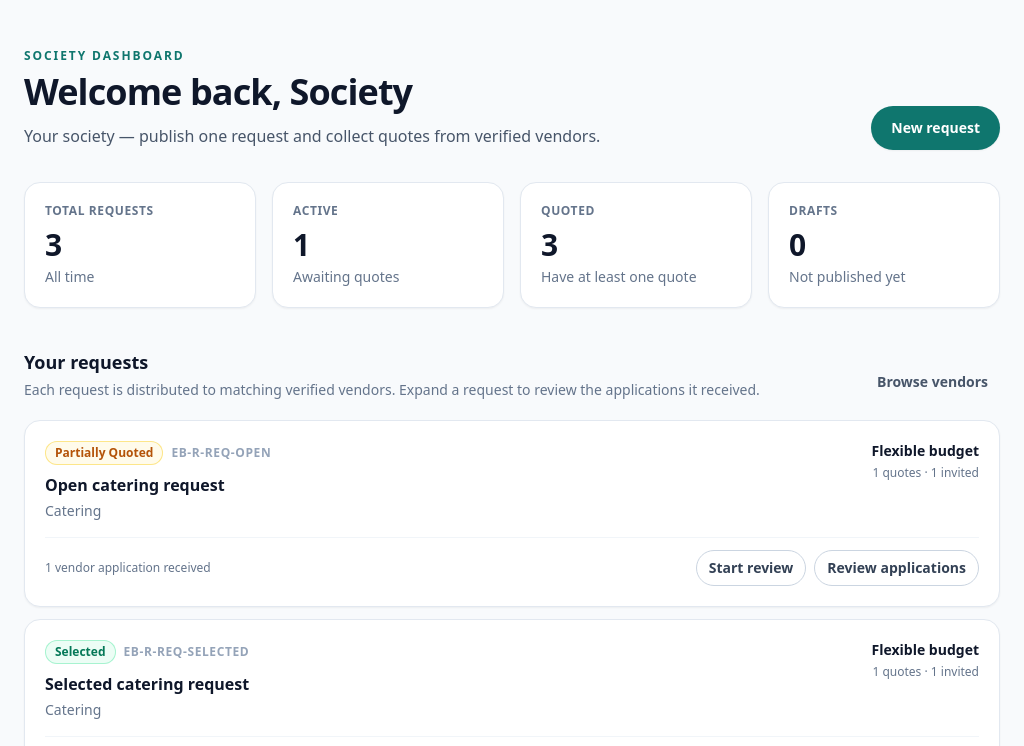
Test: SocietyPage lifecycle actions › offers Start review only while quotations are still being collected
This screenshot has width=1024, height=746.
Expected: the element "Open catering request" is shown, [24,420,1000,607]
Click the button "Start review" at (751, 568), box [696,550,806,586]
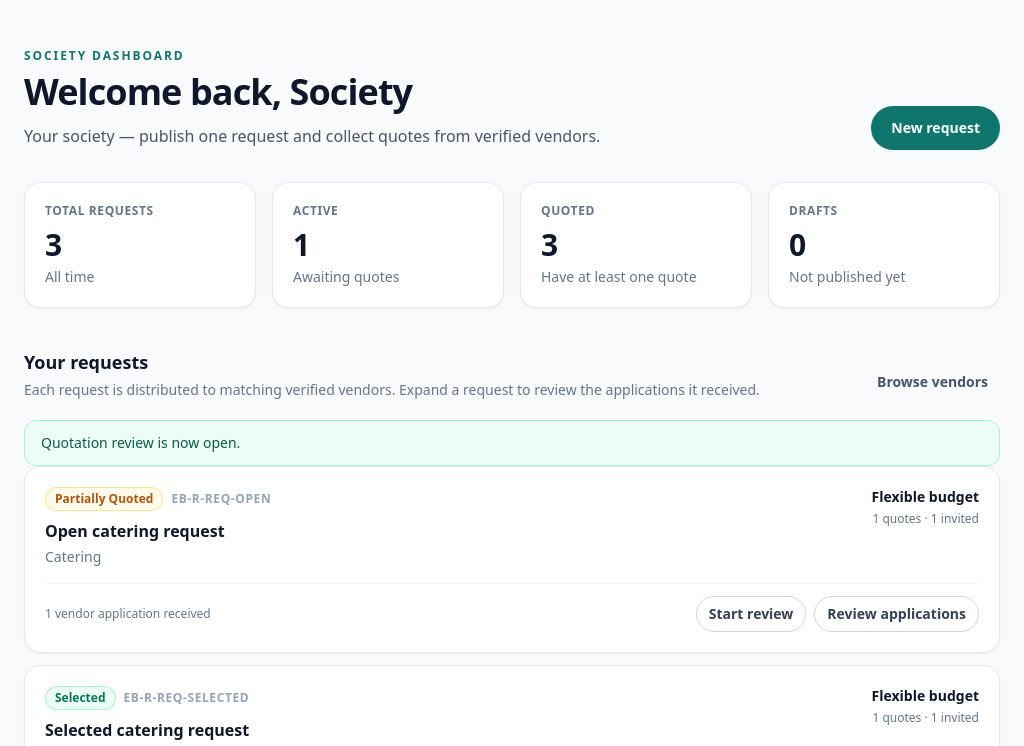
Now the text "Quotation review is now open." is shown, box [24,420,1000,466]
